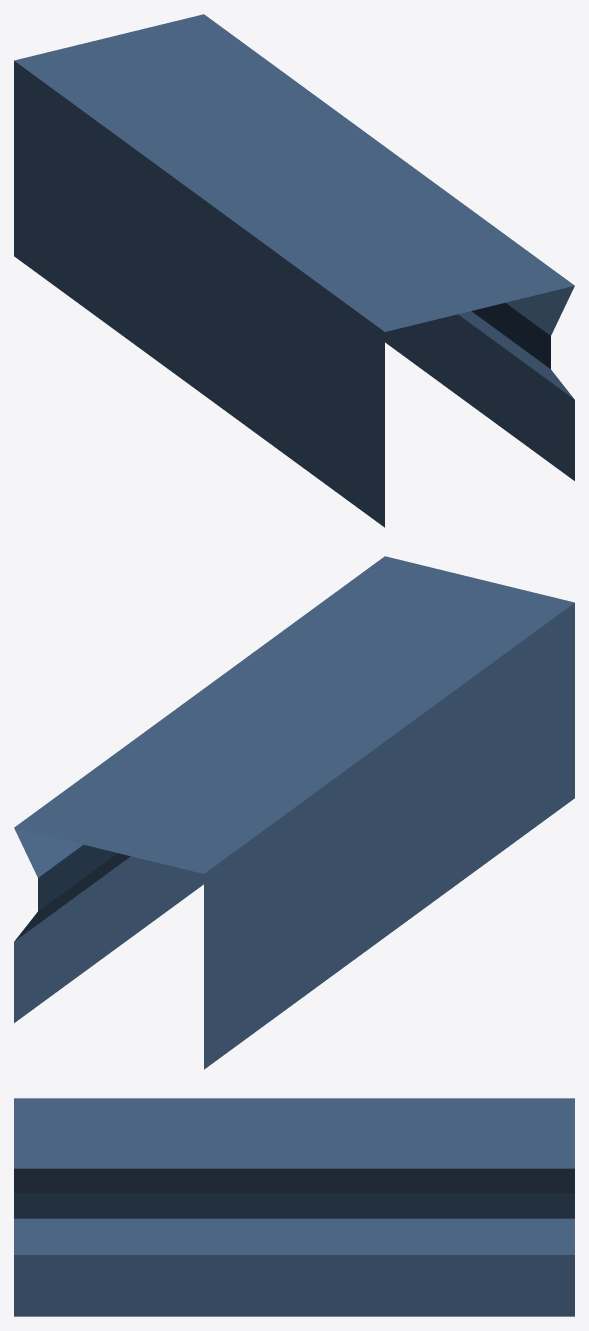
Rendered from Wall_small.fbx.
3 renders of one model, top to bottom at view 1: azimuth 30°, elevation 25°; view 2: azimuth 150°, elevation 25°; view 3: azimuth 270°, elevation 25°, orthographic. The views are drawn at different scales.
Parts seen in each view (by area): view 1: SM_Small_wall; view 2: SM_Small_wall; view 3: SM_Small_wall.
Part boxes in pixels (<box>): SM_Small_wall: <box>14,14,574,527</box>; SM_Small_wall: <box>14,556,574,1069</box>; SM_Small_wall: <box>14,1098,574,1316</box>.
Bounding box in the file's own units: 0.8872 × 0.8731 × 3.
